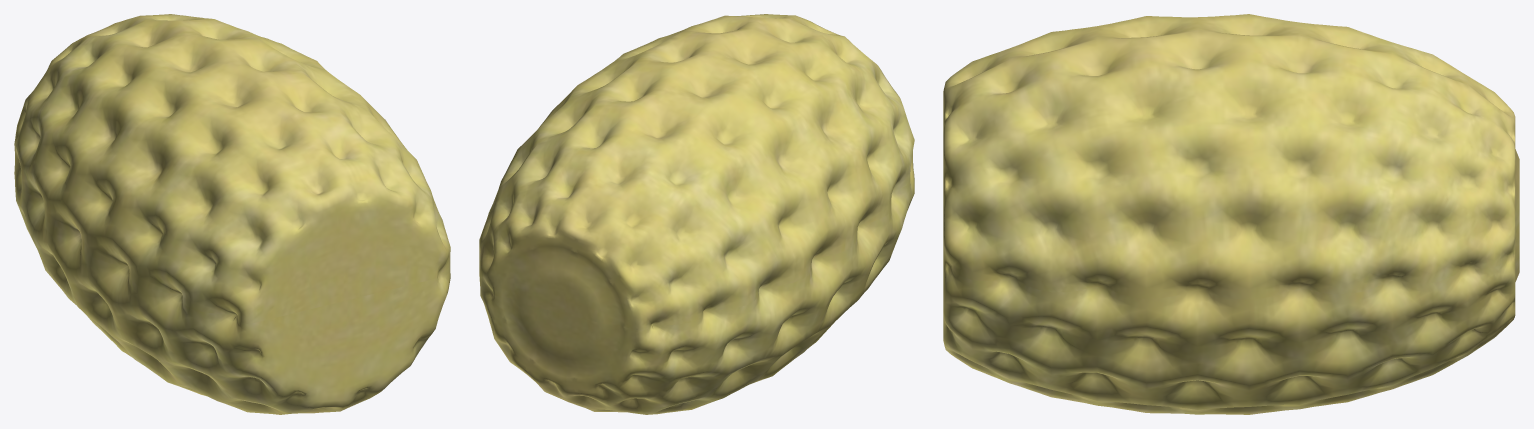
Rendered from PineappleFlesh.obj.
The picture shows the model from 3 angles, left to right: view 1: azimuth 30°, elevation 25°; view 2: azimuth 150°, elevation 25°; view 3: azimuth 270°, elevation 25°; orthographic projection. The views are drawn at different scales.
Parts seen in each view (by area): view 1: PineappleFlesh; view 2: PineappleFlesh; view 3: PineappleFlesh.
Part boxes in pixels (bbox=[...]): PineappleFlesh: bbox=[14, 14, 450, 414]; PineappleFlesh: bbox=[479, 14, 914, 414]; PineappleFlesh: bbox=[943, 14, 1519, 414].
Bounding box in the file's own units: 0.1325 × 0.1342 × 0.192.
1 material, 1 textured.
